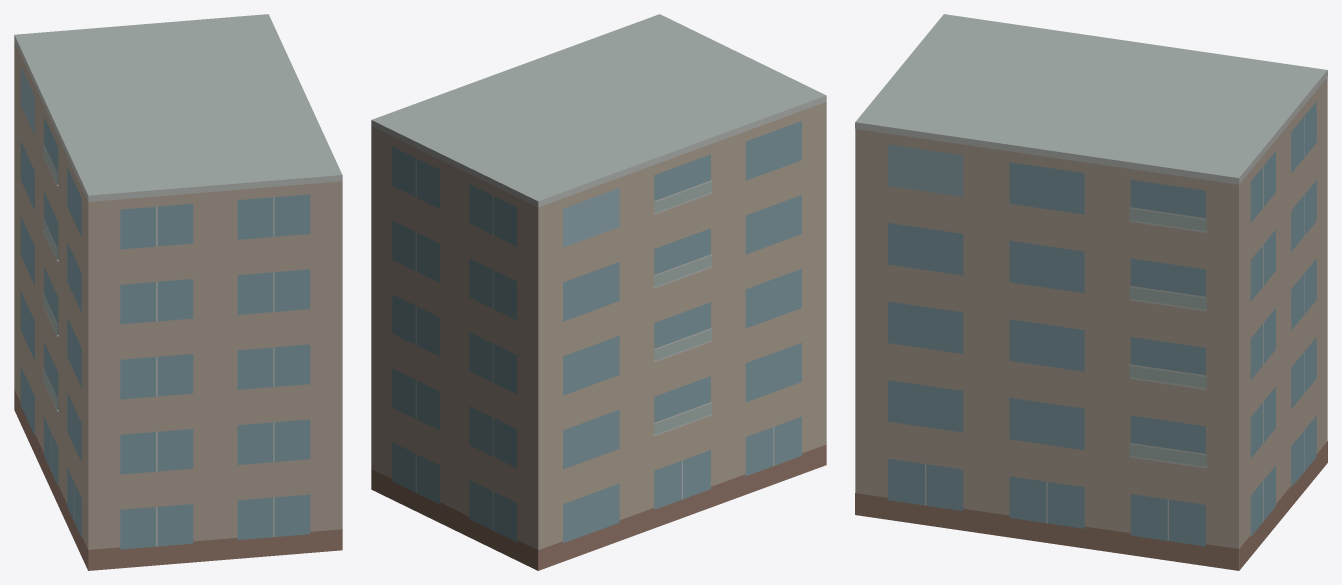
Rendered from survey-upis-32989466.glb.
The picture shows the model from 3 angles, left to right: view 1: azimuth 30°, elevation 25°; view 2: azimuth 150°, elevation 25°; view 3: azimuth 270°, elevation 25°; orthographic projection. The views are drawn at different scales.
Visible parts, largest first — view 1: survey-upis-32989466.tmp; view 2: survey-upis-32989466.tmp; view 3: survey-upis-32989466.tmp.
Part boxes in pixels (x1,y1,x2,y2): survey-upis-32989466.tmp: (14,14,342,570); survey-upis-32989466.tmp: (371,14,826,570); survey-upis-32989466.tmp: (855,14,1327,570).
Bounding box in the file's own units: 13.01 × 14.5 × 15.83.
